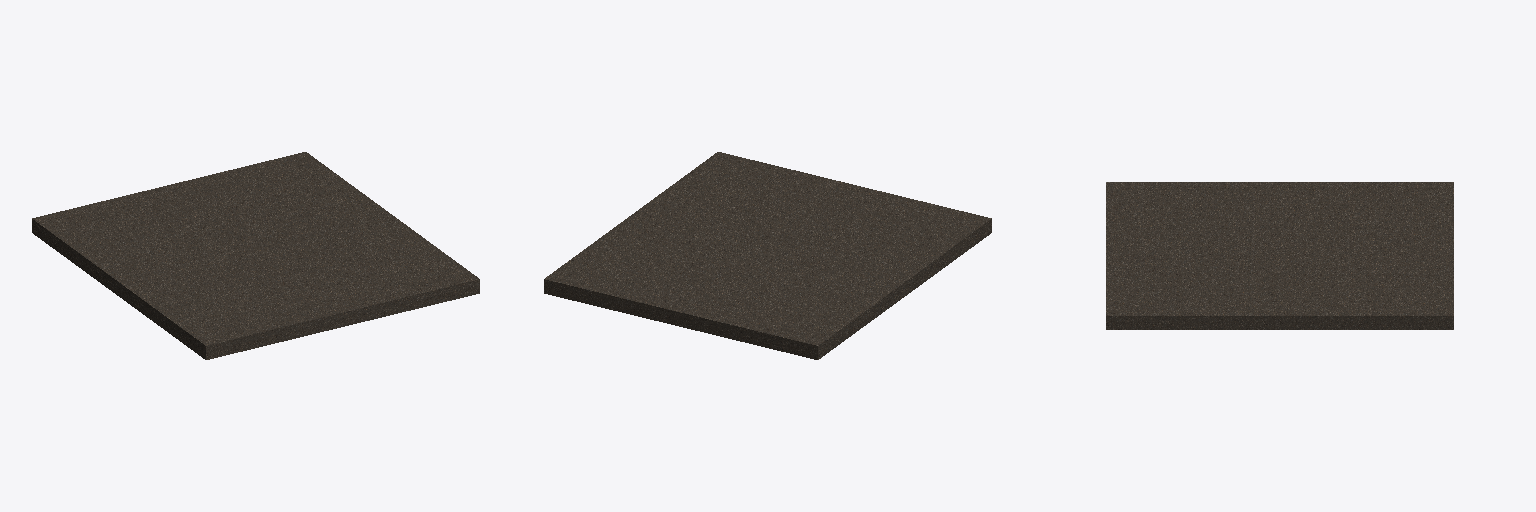
3 renders of one model, left to right at view 1: azimuth 30°, elevation 25°; view 2: azimuth 150°, elevation 25°; view 3: azimuth 270°, elevation 25°, orthographic.
Parts seen in each view (by area): view 1: graveyardfloor; view 2: graveyardfloor; view 3: graveyardfloor.
Part boxes in pixels (left/top/right/bottom): graveyardfloor: left=32, top=152, right=479, bottom=359; graveyardfloor: left=544, top=152, right=991, bottom=359; graveyardfloor: left=1106, top=182, right=1453, bottom=329.
Bounding box in the file's own units: 19.98 × 1 × 22.
1 materials, 1 textured.